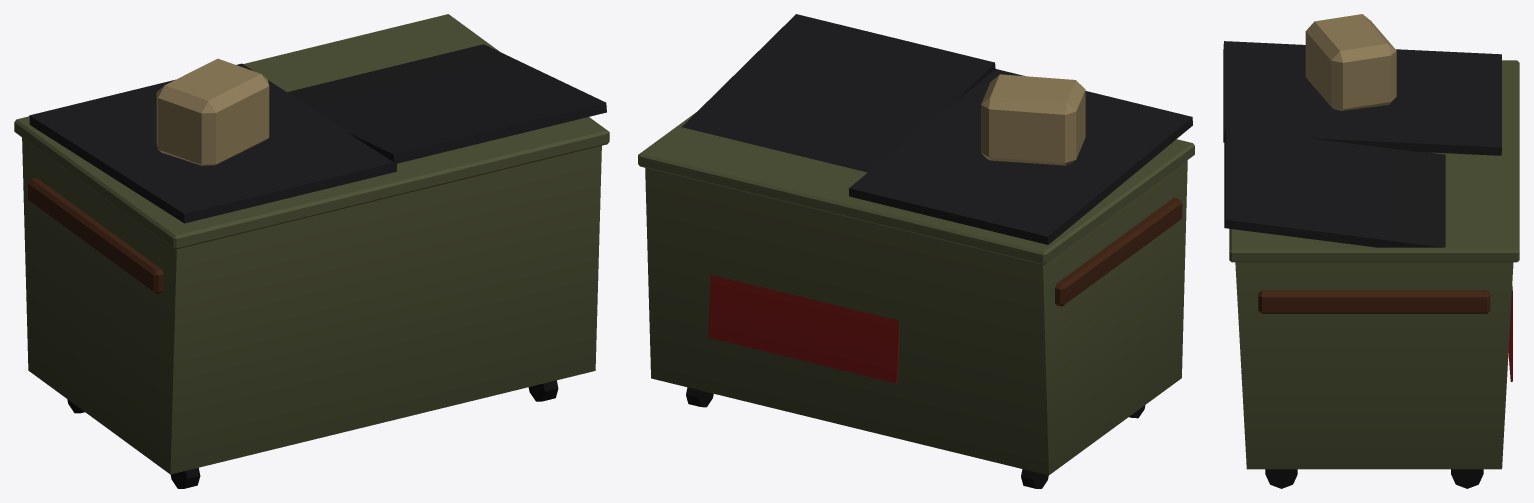
Rendered from dumpster.glb.
3 renders of one model, left to right at view 1: azimuth 30°, elevation 25°; view 2: azimuth 150°, elevation 25°; view 3: azimuth 270°, elevation 25°, orthographic. The views are drawn at different scales.
Parts seen in each view (by area): view 1: dumpster; view 2: dumpster; view 3: dumpster.
Boxes of the visible parts, left/top/right/bottom form: dumpster: left=14, top=14, right=609, bottom=488; dumpster: left=638, top=14, right=1194, bottom=488; dumpster: left=1223, top=14, right=1519, bottom=488.
Size of the model in its own units: 1.98 by 1.55 by 1.28.
